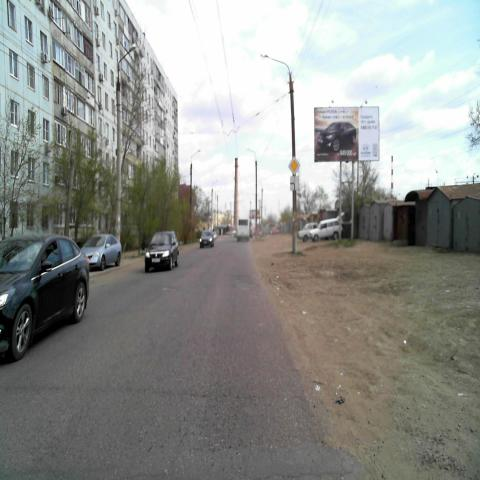8_13: (290, 174, 299, 190)
